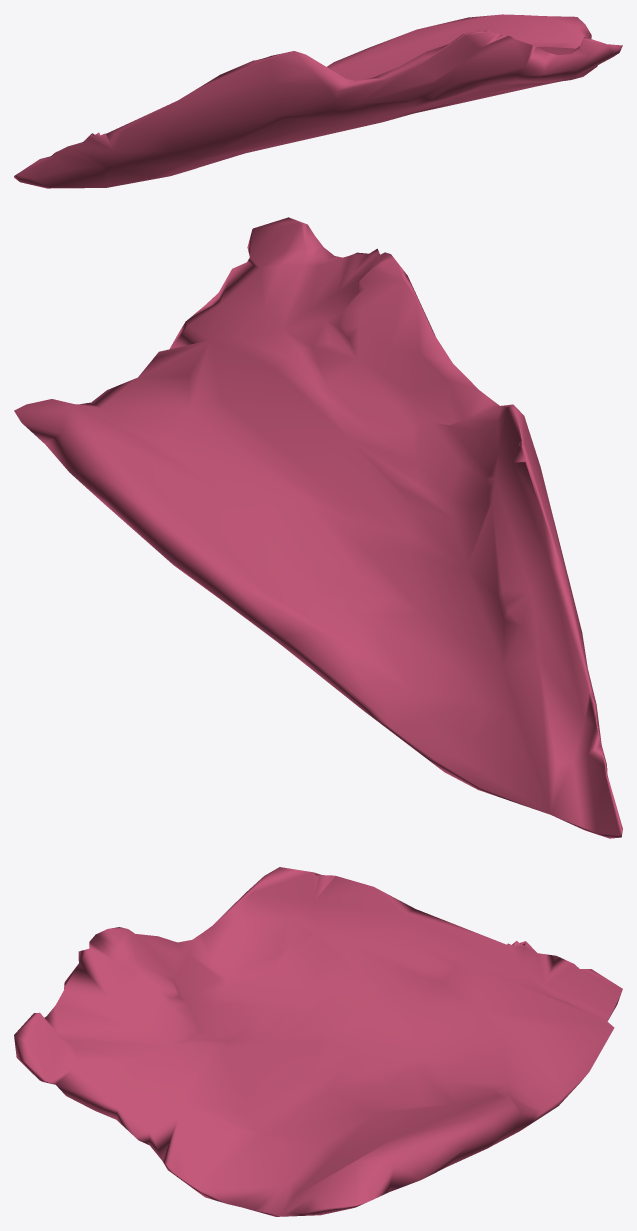
3 views of the same model, one above another, from view 1: azimuth 30°, elevation 25°; view 2: azimuth 150°, elevation 25°; view 3: azimuth 270°, elevation 25° (orthographic). The views are drawn at different scales.
Visible parts, largest first — view 1: 右侧拇短屈肌深头; view 2: 右侧拇短屈肌深头; view 3: 右侧拇短屈肌深头.
Part boxes in pixels (<box>): 右侧拇短屈肌深头: <box>14,14,622,188</box>; 右侧拇短屈肌深头: <box>14,217,622,838</box>; 右侧拇短屈肌深头: <box>14,867,622,1216</box>.
Bounding box in the file's own units: 0.0727 × 0.0286 × 0.049.
